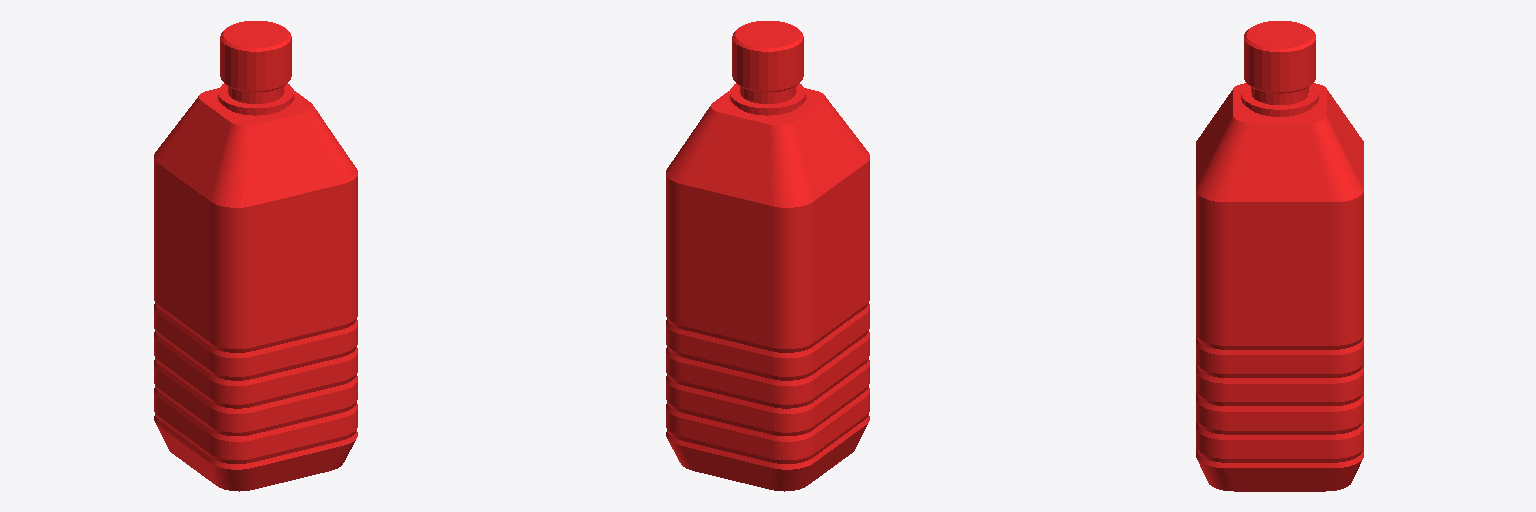
The robot description file, URDF, robot "bottle":
<?xml version="0.0" ?>
<robot name="bottle">
    <link concave="yes" name="base_link">
        <!-- <contact>
            <lateral_friction value="3.0"/>
            <rolling_friction value="3.0"/>
            <spinning_friction value="3.0"/>
        </contact> -->
        <inertial>
            <origin xyz="0 0 0.03"/>
            <mass value="1"/>
            <inertia ixx="1" ixy="0" ixz="0" iyy="1" iyz="0" izz="1"/>
        </inertial>
        <visual>
            <origin xyz="0.015 -0.03  0"/>
            <geometry>
                <mesh filename="bottle.obj" scale="0.025 0.025 0.025 "/>
            </geometry>
      <material name="bottle">
        <color rgba="1.0 0.2 0.2 1"/>
        <specular rgb="1 1 1"/>
      </material>
        </visual>
        <collision concave="yes">
            <origin xyz="0.015 -0.03 0"/>
            <geometry>
                <mesh filename="bottle.obj" scale="0.025 0.025 0.025 "/>
            </geometry>
        </collision>
    </link>
</robot>

--- Render facts (derived) ---
Views: 3 orthographic renders of the robot side by side, from view 1: azimuth 30°, elevation 25°; view 2: azimuth 150°, elevation 25°; view 3: azimuth 270°, elevation 25°.
Robot: bottle — 1 links, 0 joints (none); root link base_link; default pose: all joints at 0.
Visible links, largest first — view 1: base_link; view 2: base_link; view 3: base_link.
Boxes of the visible links, x1,y1,x2,y2 form: base_link: [154, 21, 357, 491]; base_link: [666, 21, 869, 491]; base_link: [1196, 21, 1363, 491].
Bounding box of the posed robot: 0.064 × 0.064 × 0.1783 m (x, y, z).
1 mesh visuals loaded from 1 distinct referenced files (1 OBJ).